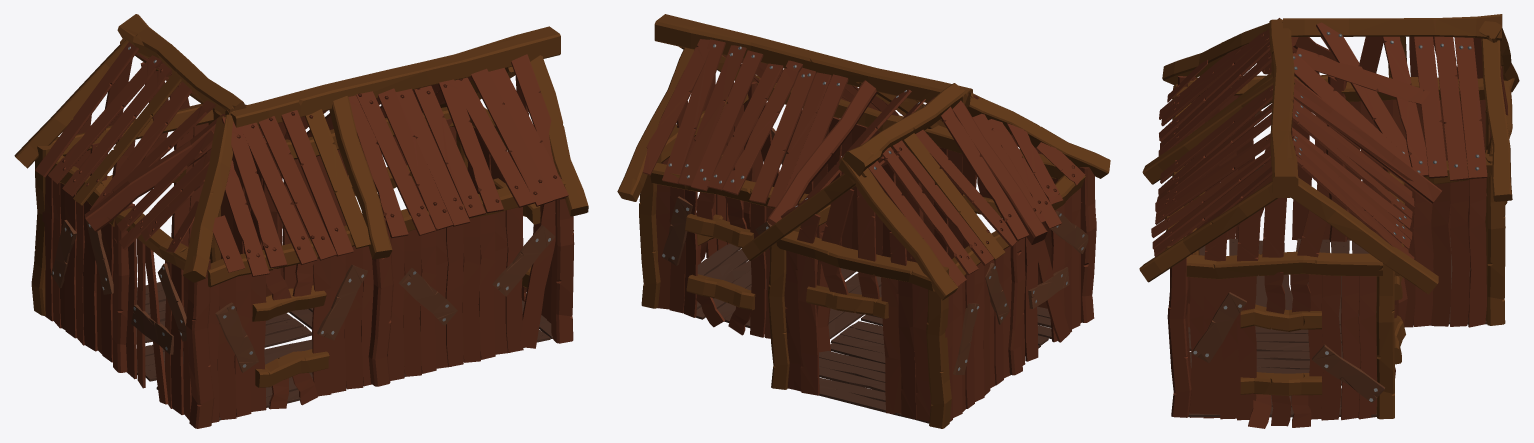
File: abandonedhouse.fbx
The picture shows the model from 3 angles, left to right: view 1: azimuth 30°, elevation 25°; view 2: azimuth 150°, elevation 25°; view 3: azimuth 270°, elevation 25°; orthographic projection. The views are drawn at different scales.
Parts seen in each view (by area): view 1: FloorNail1.005; view 2: FloorNail1.005; view 3: FloorNail1.005.
Boxes of the visible parts, left/top/right/bottom form: FloorNail1.005: left=14, top=14, right=588, bottom=428; FloorNail1.005: left=617, top=14, right=1110, bottom=428; FloorNail1.005: left=1139, top=14, right=1519, bottom=428.
Bounding box in the file's own units: 969 × 588 × 725.
